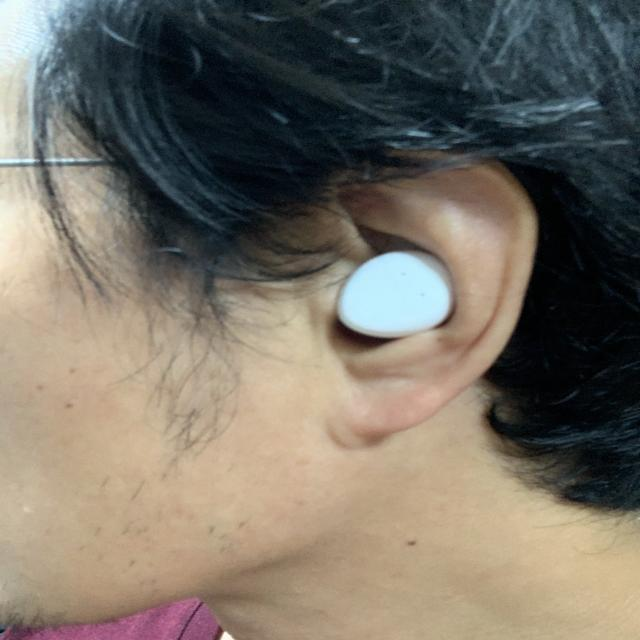earphone: (324, 221, 481, 370)
